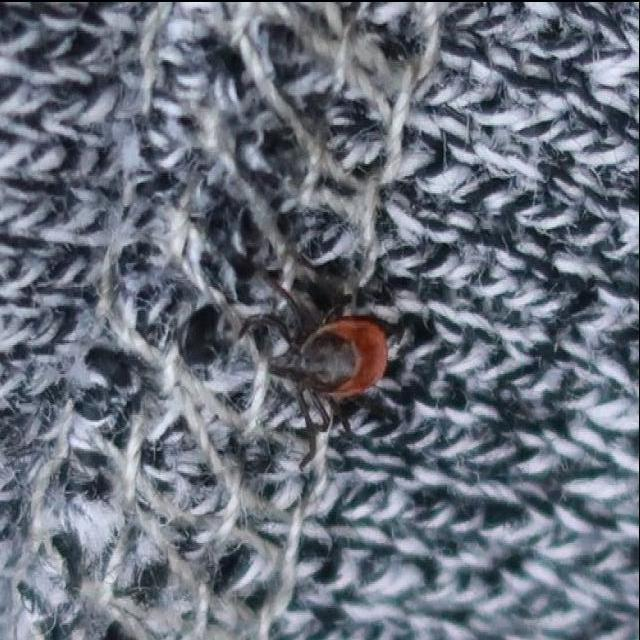Ixodes Ricinus-F: (239, 270, 390, 468)
